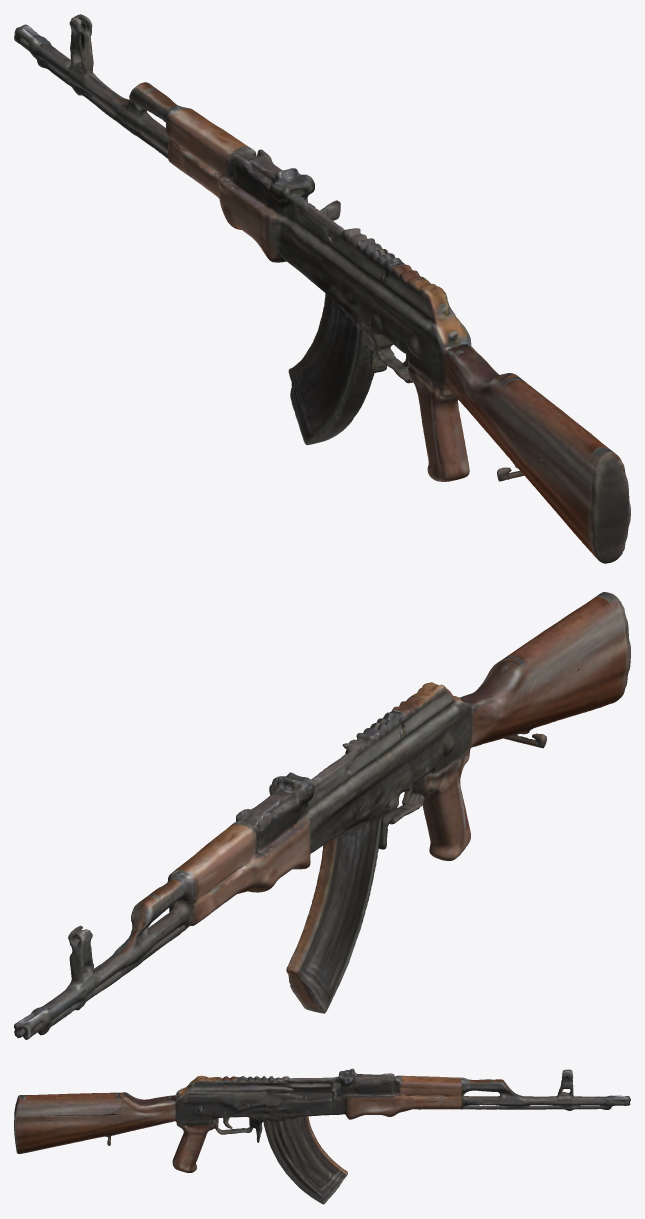
3 renders of one model, top to bottom at view 1: azimuth 30°, elevation 25°; view 2: azimuth 150°, elevation 25°; view 3: azimuth 270°, elevation 25°, orthographic. The views are drawn at different scales.
Parts seen in each view (by area): view 1: AK47, ak47_mag_Mesh_0.001; view 2: AK47, ak47_mag_Mesh_0.001; view 3: AK47, ak47_mag_Mesh_0.001.
Part boxes in pixels (box(x1,y1,x2,y2)): AK47: box(14, 14, 630, 563); ak47_mag_Mesh_0.001: box(288, 293, 374, 445); AK47: box(14, 592, 630, 1039); ak47_mag_Mesh_0.001: box(286, 803, 390, 1013); AK47: box(14, 1068, 630, 1172); ak47_mag_Mesh_0.001: box(260, 1116, 347, 1204).
Size of the model in its own units: 0.0511 by 0.2088 by 0.88.
Materials: 1 (1 with a texture image).
